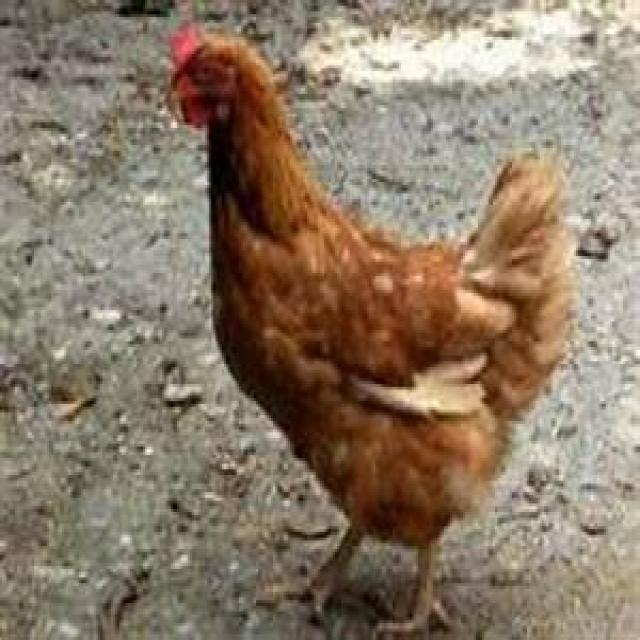hen: (166, 9, 578, 631)
